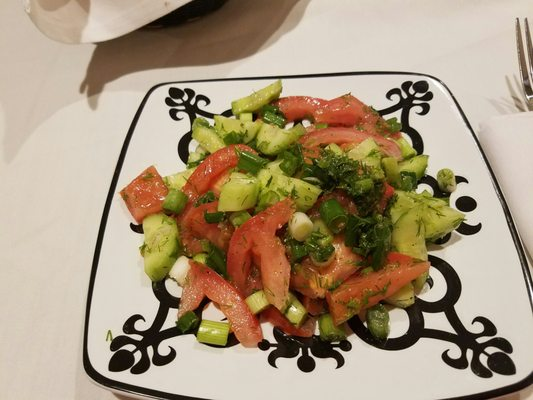burger: (515, 16, 533, 111)
